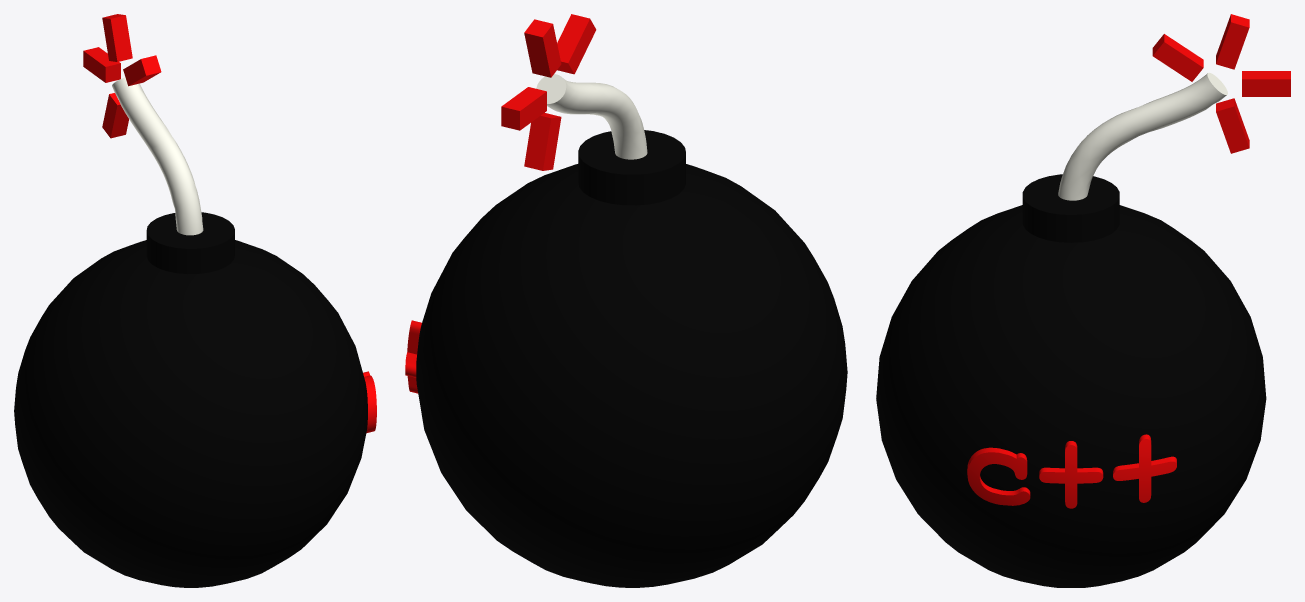
File: bomb.glb
The picture shows the model from 3 angles, left to right: view 1: azimuth 30°, elevation 25°; view 2: azimuth 150°, elevation 25°; view 3: azimuth 270°, elevation 25°; orthographic projection. The views are drawn at different scales.
Visible parts, largest first — view 1: =>[0:1:1:2], =>[0:1:1:5], =>[0:1:1:4], =>[0:1:1:3], =>[0:1:1:6]; view 2: =>[0:1:1:2], =>[0:1:1:3], =>[0:1:1:5], =>[0:1:1:6], =>[0:1:1:4]; view 3: =>[0:1:1:2], =>[0:1:1:6], =>[0:1:1:4], =>[0:1:1:5], =>[0:1:1:3].
Part boxes in pixels (x1,y1,x2,y2): =>[0:1:1:2]: (14,77,376,587); =>[0:1:1:5]: (102,14,132,61); =>[0:1:1:4]: (83,47,120,82); =>[0:1:1:3]: (102,93,128,138); =>[0:1:1:6]: (123,55,161,86); =>[0:1:1:2]: (405,74,847,587); =>[0:1:1:3]: (524,112,561,170); =>[0:1:1:5]: (524,19,561,77); =>[0:1:1:6]: (557,14,596,74); =>[0:1:1:4]: (501,87,546,130); =>[0:1:1:2]: (876,72,1266,587); =>[0:1:1:6]: (1152,34,1203,81); =>[0:1:1:4]: (1242,71,1290,96); =>[0:1:1:5]: (1216,14,1249,69); =>[0:1:1:3]: (1216,98,1249,153).
Size of the model in its own units: 2.05 by 3.12 by 2.12.
